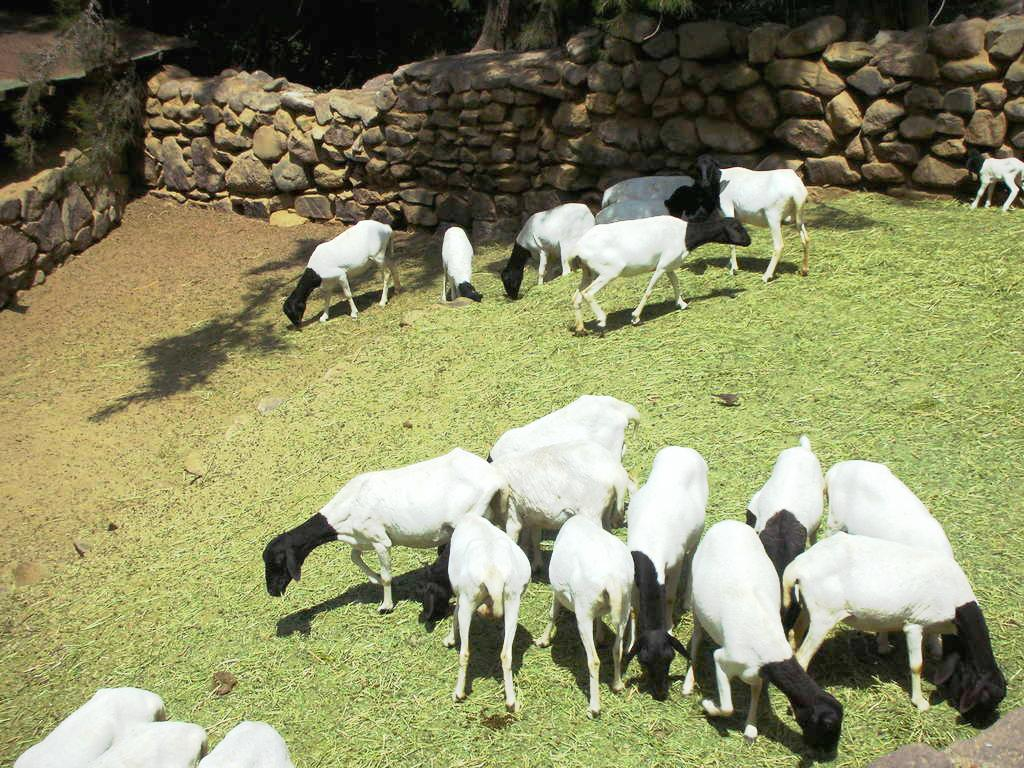Sheep: (789, 514, 1010, 736), (252, 439, 514, 607), (688, 494, 844, 768), (611, 427, 717, 699), (564, 199, 756, 340), (697, 140, 849, 300), (437, 497, 541, 716), (538, 492, 642, 698), (824, 441, 976, 571), (488, 429, 634, 540), (480, 371, 634, 473), (25, 681, 182, 768), (276, 218, 398, 316), (500, 194, 599, 302), (758, 429, 821, 581), (210, 704, 333, 768), (106, 701, 223, 768), (956, 144, 1022, 216), (438, 228, 476, 302)
